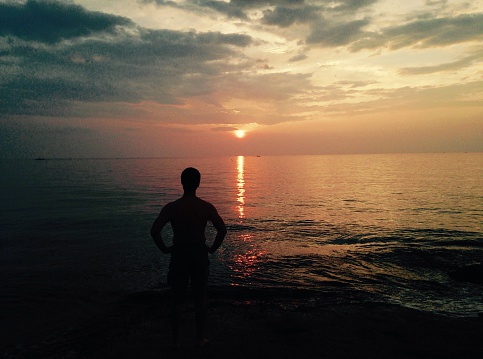em pe: (144, 167, 215, 324)
